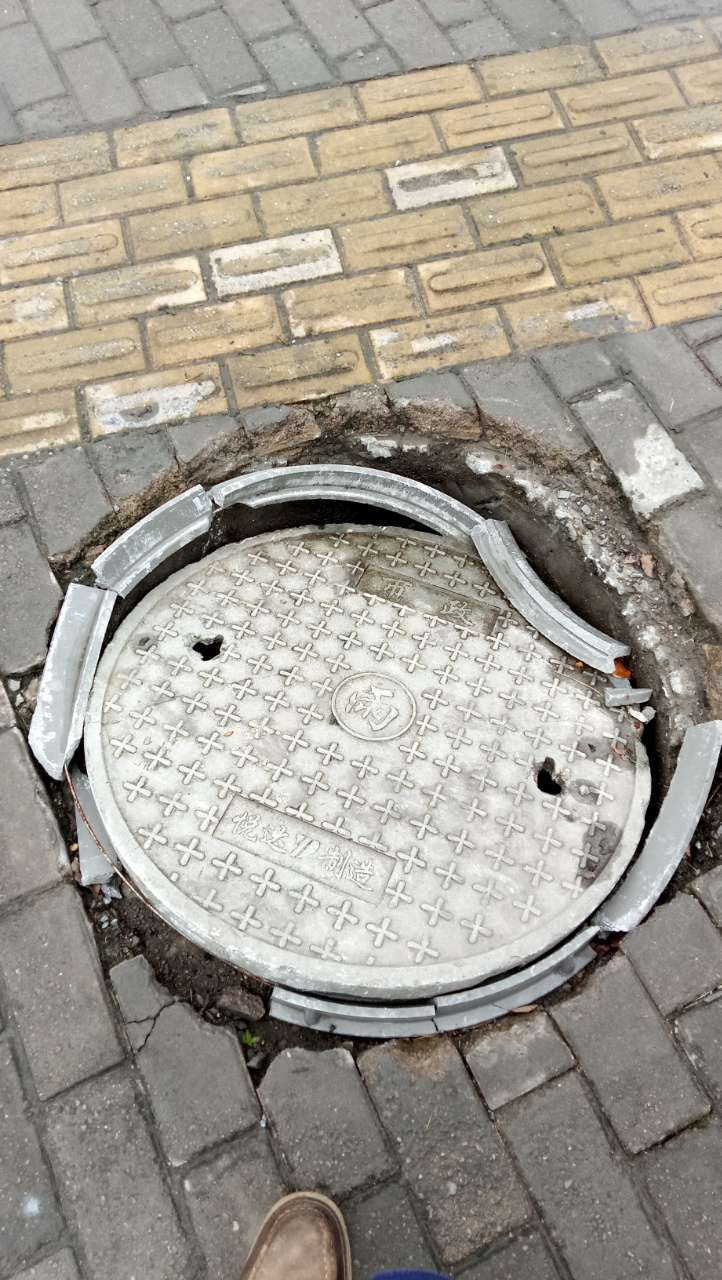circle: (10, 400, 715, 1072)
